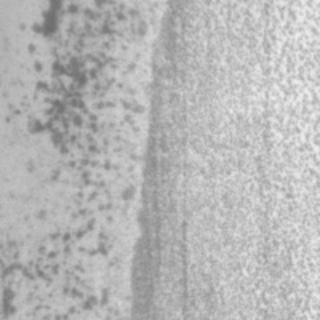pitted_surface: (148, 0, 318, 314), (4, 0, 134, 314)
